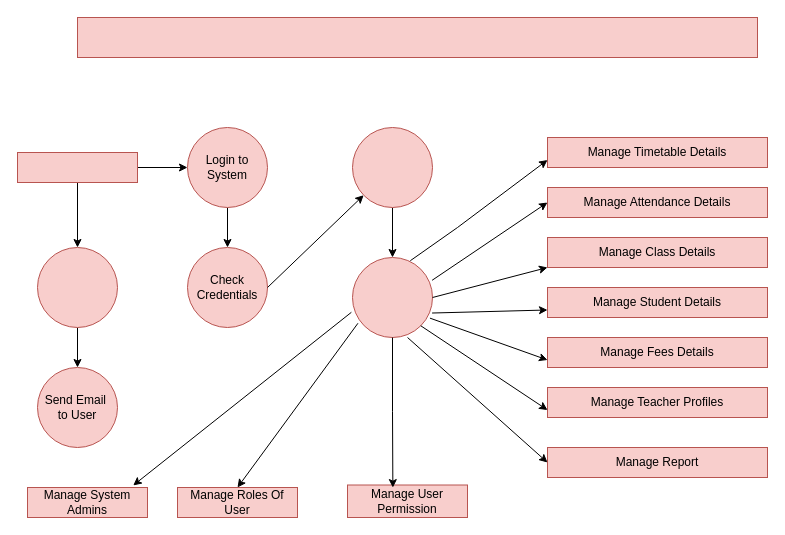
The diagram is 785 pixels wide and 535 high, and some of its shapes have lost their labels. Here are the shapes that lost their labels. From the top down, the centre of each, then its label:
point (417, 37): Student Information System
point (77, 167): Admin
point (392, 167): Check Roles of
point (77, 287): Forget Password
point (392, 297): Manage Modules
